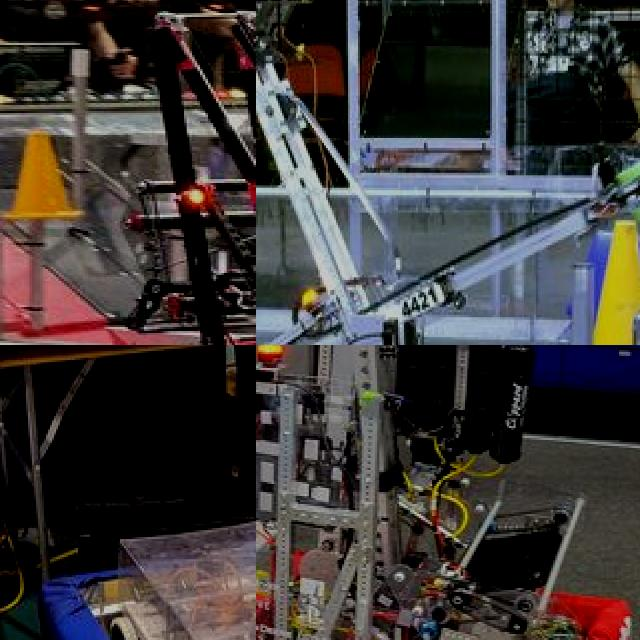FRC-Robots: (256, 49, 640, 345), (256, 345, 640, 640), (49, 0, 256, 345), (14, 511, 256, 640)
